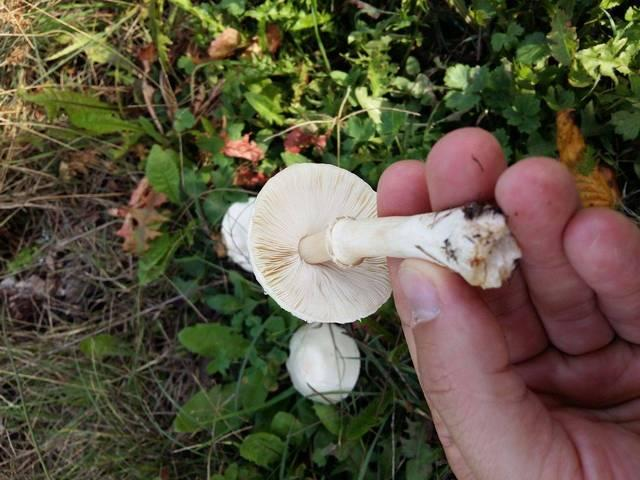poisonous_mushroom: (245, 161, 393, 324), (285, 321, 361, 405)
